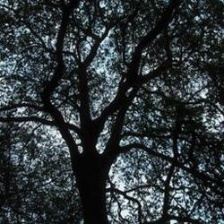neutral: (2, 1, 223, 222)
